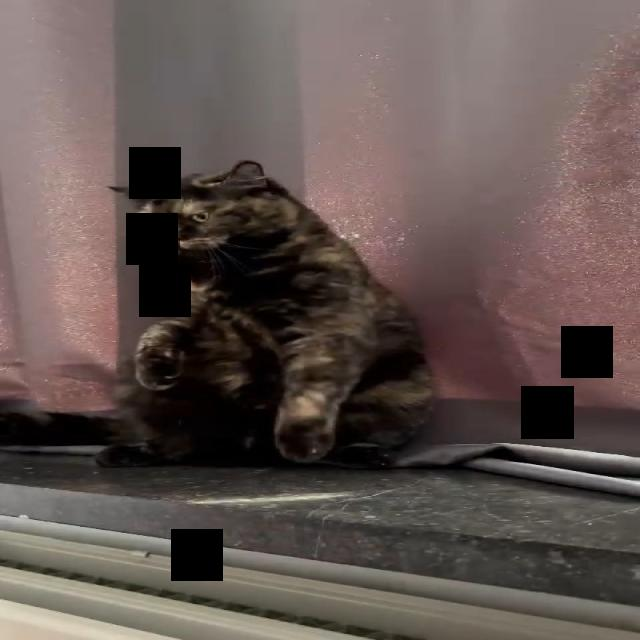authorized: (97, 159, 436, 467)
